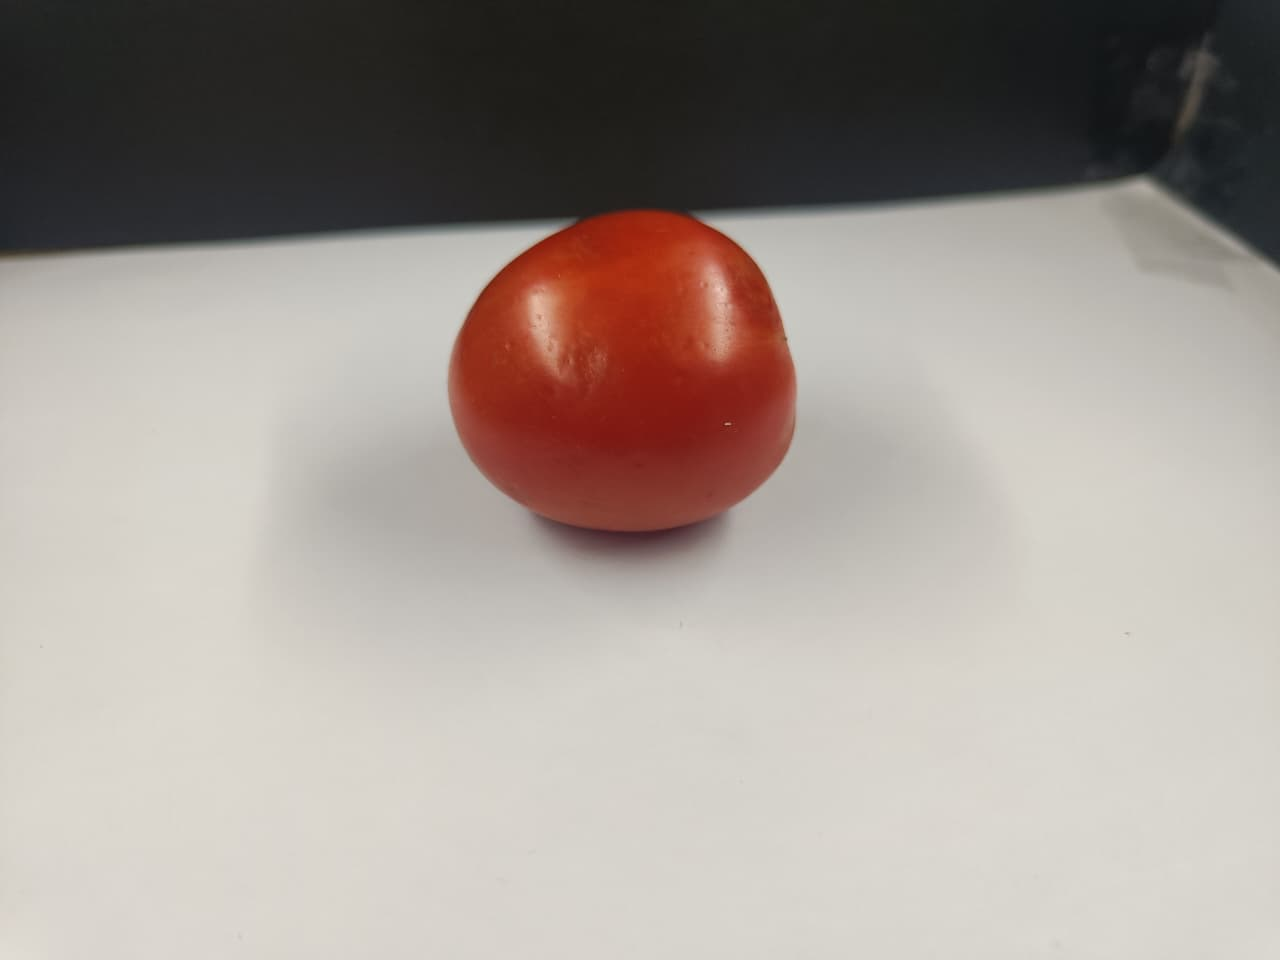ripe: (435, 205, 805, 544)
